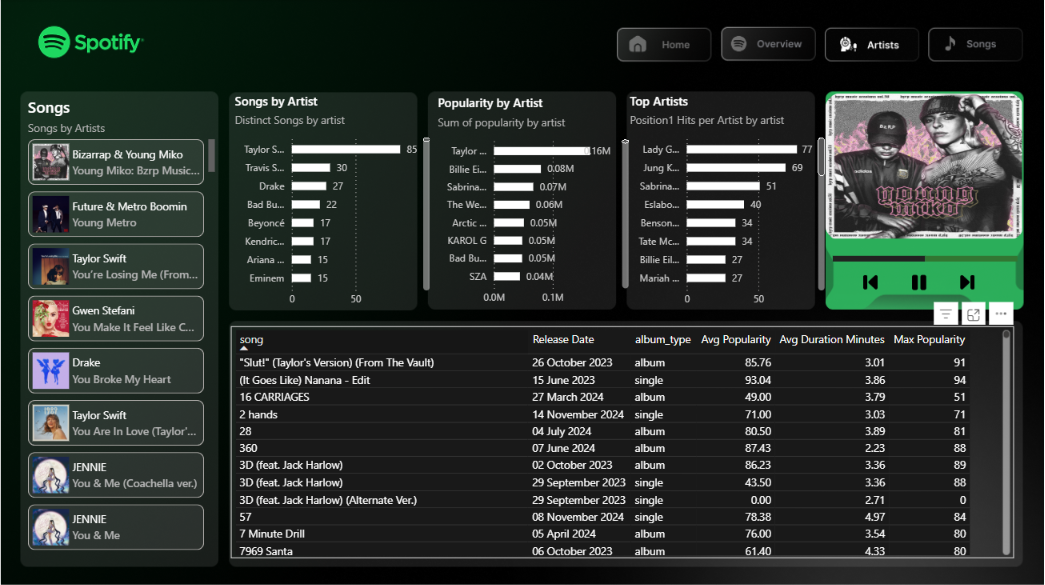

Layout of this report page (visuals, bound fields, positions):
{"tool":"powerbi","page":{"name":"Artist","canvas":[1280,720],"ordinal":2},"visuals":[{"type":"actionButton","box":[751.9,36.6,117.8,40.1],"z":0},{"type":"actionButton","box":[880.9,36.6,117.8,40.1],"z":1000},{"type":"actionButton","box":[1008.7,36.6,117.8,40.1],"z":2000},{"type":"actionButton","box":[1136.4,36.6,117.8,40.1],"z":3000},{"type":"advancedSlicerVisual","title":"Songs ","fields":{"Values":["Top-50-World.song"]},"box":[985.6,109.5,294.4,191.7],"z":4000},{"type":"hundredPercentStackedBarChart","fields":{"Y":["_Measures.Avg Popularity","Avg(Top-50-World.popularity)"]},"box":[1015.7,283.6,236.8,63.9],"z":5000},{"type":"image","box":[1047,332.5,40,30.1],"z":6000},{"type":"image","box":[1166,332.5,40.1,30.1],"z":7000},{"type":"shape","box":[1010.7,109.5,249.3,291.9],"z":8000},{"type":"image","box":[1106.4,327.5,40.1,40.1],"z":9000},{"type":"advancedSlicerVisual","title":"Songs ","fields":{"Values":["Top-50-World.song"]},"box":[28.2,119,239.3,568.1],"z":10000},{"type":"tableEx","fields":{"Values":["Top-50-World.song","Top-50-World.Release Date (Formatted)","Top-50-World.album_type","_Measures.Avg Popularity","_Measures.Avg Duration Minutes","_Measures.Max Popularity"]},"box":[281.9,400.9,960.8,285.6],"z":11000},{"type":"clusteredBarChart","title":"Songs by Artist","fields":{"Category":["Top-50-World.artist"],"Y":["_Measures.Distinct Songs"]},"box":[281.9,114,249.3,271.8],"z":12000},{"type":"clusteredBarChart","title":" Popularity by Artist","fields":{"Y":["Sum(Top-50-World.popularity)"],"Category":["Top-50-World.artist"]},"box":[531.1,116.5,244.3,266.8],"z":13000},{"type":"clusteredBarChart","title":"Top Artists","fields":{"Category":["Top-50-World.artist"],"Y":["_Measures.Position1 Hits per Artist"]},"box":[766.6,114,249.3,271.8],"z":14000}]}

Visuals, with their boxes on the page's 1280x720 design canvas (x1, y1, x2, y2). These are canvas units, not pixel positions in the 1045x585 screenshot, which may show the page scaled, cropped or inside an application window:
actionButton: {"x1": 752, "y1": 37, "x2": 870, "y2": 77}
actionButton: {"x1": 881, "y1": 37, "x2": 999, "y2": 77}
actionButton: {"x1": 1009, "y1": 37, "x2": 1126, "y2": 77}
actionButton: {"x1": 1136, "y1": 37, "x2": 1254, "y2": 77}
"Songs " advancedSlicerVisual: {"x1": 986, "y1": 110, "x2": 1280, "y2": 301}
hundredPercentStackedBarChart - _Measures.Avg Popularity x Avg(Top-50-World.popularity): {"x1": 1016, "y1": 284, "x2": 1252, "y2": 348}
image: {"x1": 1047, "y1": 332, "x2": 1087, "y2": 363}
image: {"x1": 1166, "y1": 332, "x2": 1206, "y2": 363}
shape: {"x1": 1011, "y1": 110, "x2": 1260, "y2": 401}
image: {"x1": 1106, "y1": 328, "x2": 1146, "y2": 368}
"Songs " advancedSlicerVisual: {"x1": 28, "y1": 119, "x2": 268, "y2": 687}
tableEx - Top-50-World.song x Top-50-World.Release Date (Formatted): {"x1": 282, "y1": 401, "x2": 1243, "y2": 686}
"Songs by Artist" clusteredBarChart: {"x1": 282, "y1": 114, "x2": 531, "y2": 386}
" Popularity by Artist" clusteredBarChart: {"x1": 531, "y1": 116, "x2": 775, "y2": 383}
"Top Artists" clusteredBarChart: {"x1": 767, "y1": 114, "x2": 1016, "y2": 386}
